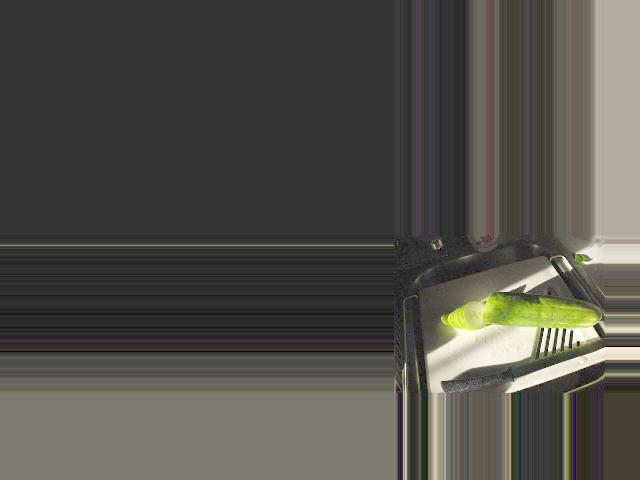cucumber: (481, 292, 601, 329)
